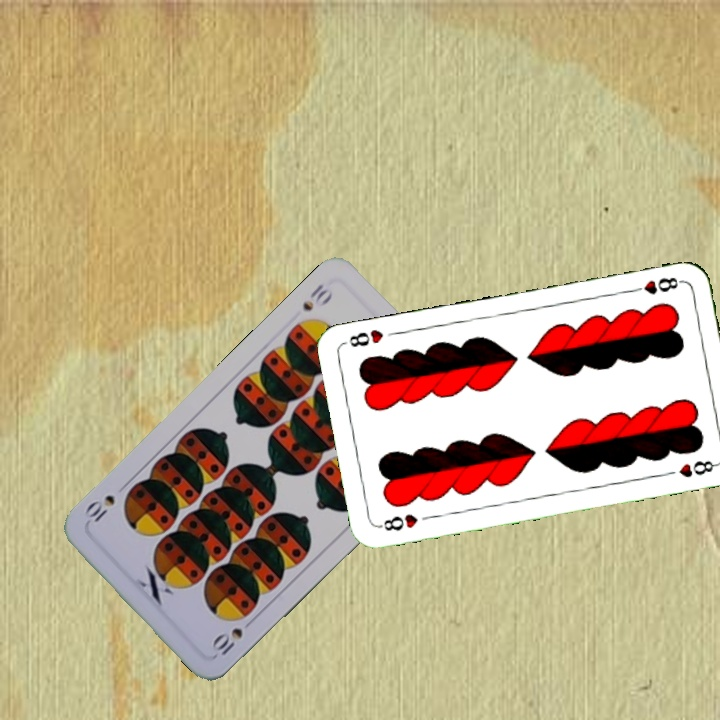H8: (626, 273, 685, 297), (375, 510, 421, 534)
S10: (208, 614, 258, 661), (298, 279, 335, 314)
